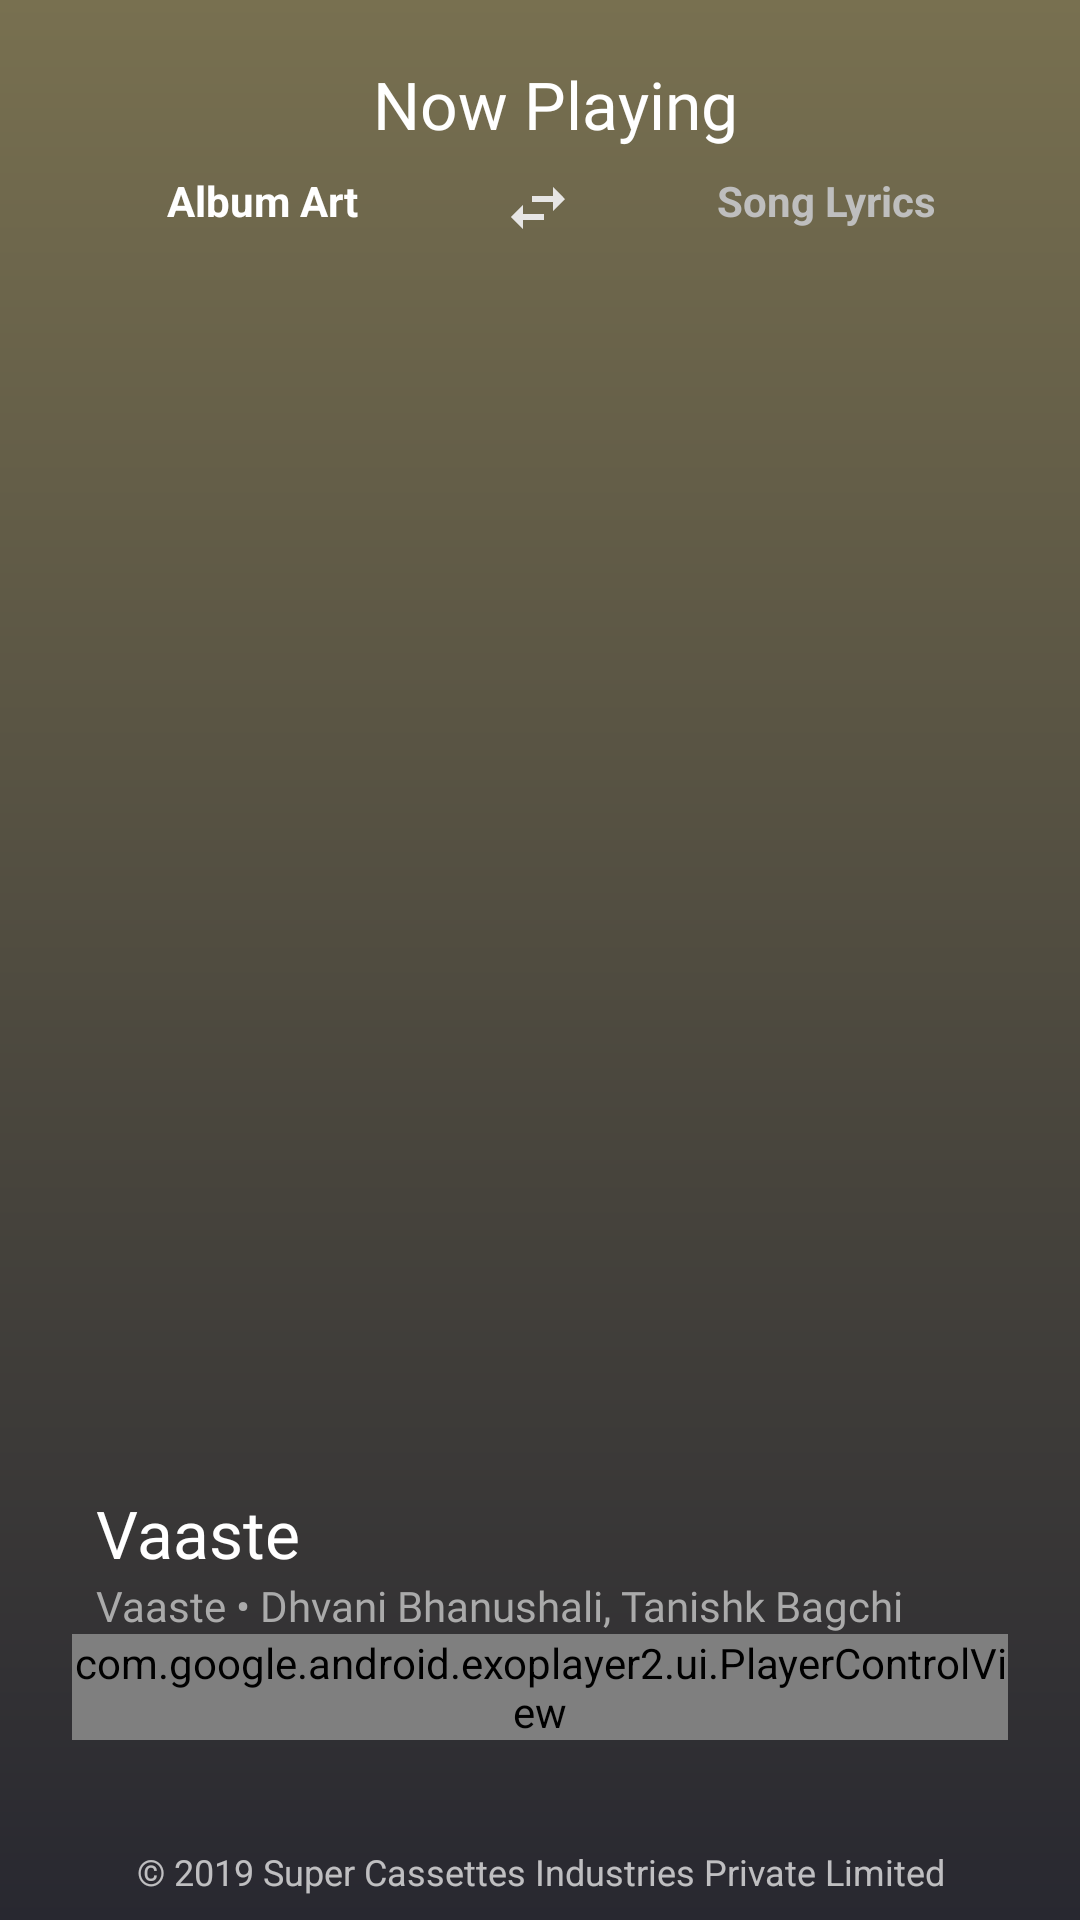

Icons on this 1080*1920 Android screen, each with the point to tap as (x,y):
swap horiz: (538,208)
